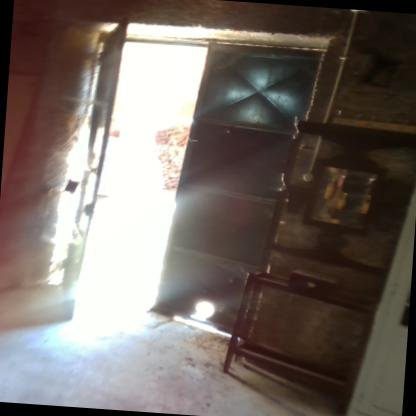semi: (54, 4, 324, 360)
